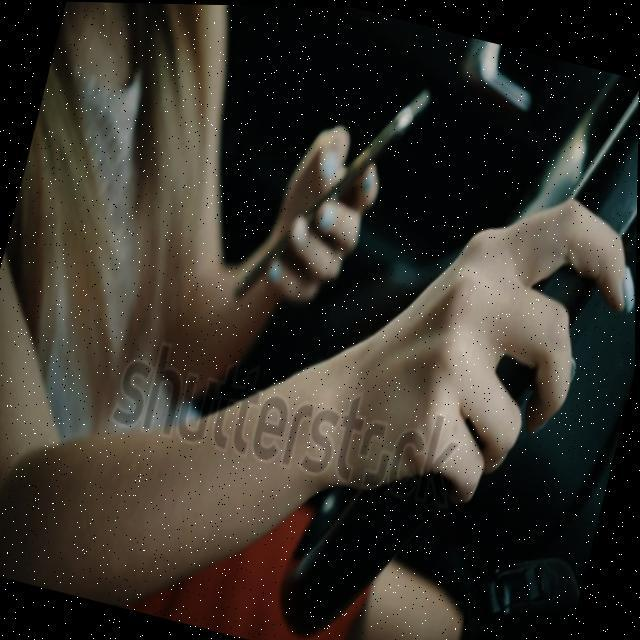PhoneCall: (229, 51, 431, 332)
